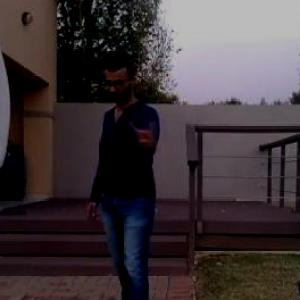takeoff-hand: (128, 108, 162, 151)
